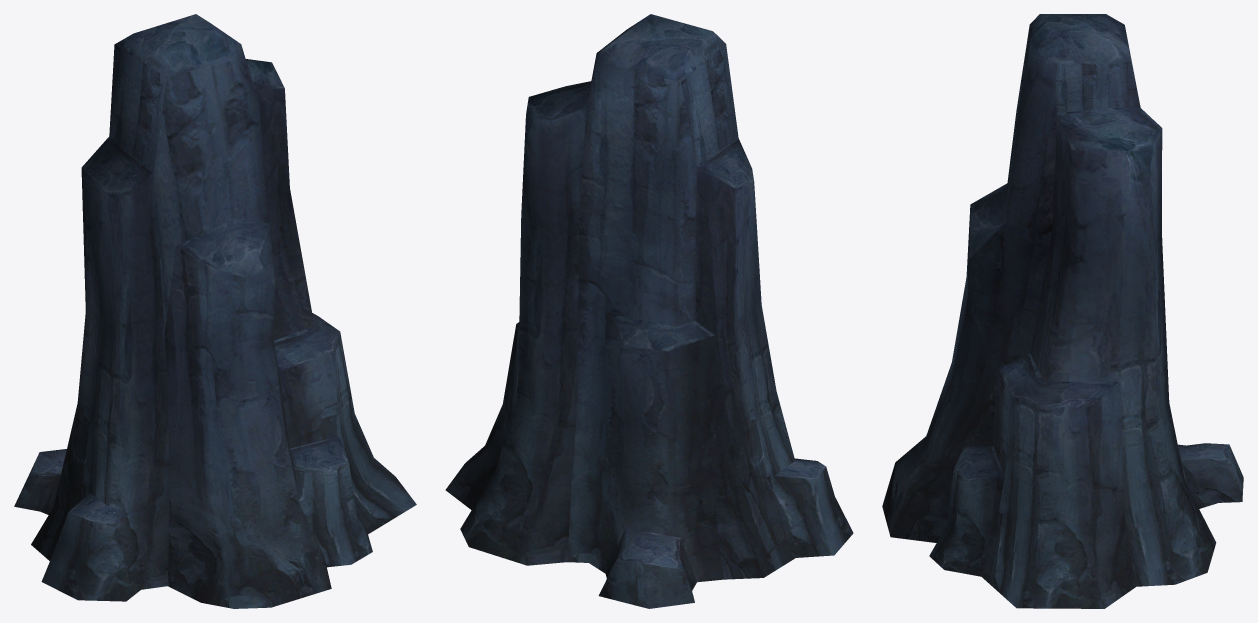
File: Vo_N_Cliff03.FBX
3 views of the same model, side by side, from view 1: azimuth 30°, elevation 25°; view 2: azimuth 150°, elevation 25°; view 3: azimuth 270°, elevation 25° (orthographic). The views are drawn at different scales.
Parts seen in each view (by area): view 1: Vo_N_Cliff03; view 2: Vo_N_Cliff03; view 3: Vo_N_Cliff03.
Boxes of the visible parts, bbox=[...] form: Vo_N_Cliff03: bbox=[14, 14, 416, 608]; Vo_N_Cliff03: bbox=[445, 14, 853, 608]; Vo_N_Cliff03: bbox=[882, 14, 1243, 608].
Size of the model in its own units: 1479 by 1971 by 1315.
